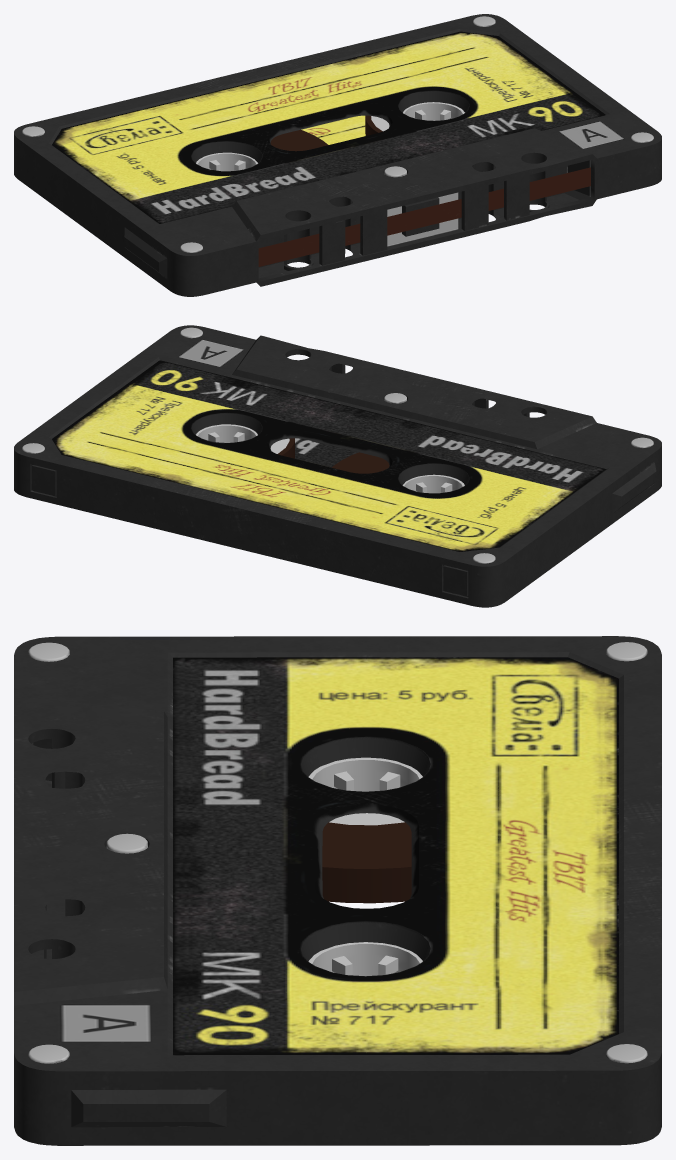
The model's file is music_cassette-v1.glb.
3 renders of one model, top to bottom at view 1: azimuth 30°, elevation 25°; view 2: azimuth 150°, elevation 25°; view 3: azimuth 270°, elevation 25°, orthographic. The views are drawn at different scales.
Parts seen in each view (by area): view 1: Object_4, Object_3; view 2: Object_4, Object_3; view 3: Object_4, Object_3.
Part boxes in pixels (box(x1,y1,x2,y2)): Object_4: box(14, 14, 661, 296); Object_3: box(270, 115, 382, 151); Object_4: box(14, 325, 661, 607); Object_3: box(277, 438, 389, 473); Object_4: box(14, 636, 661, 1145); Object_3: box(322, 822, 411, 903).
Size of the model in its own units: 0.1021 by 0.0104 by 0.063.
3 materials, 3 textured.
